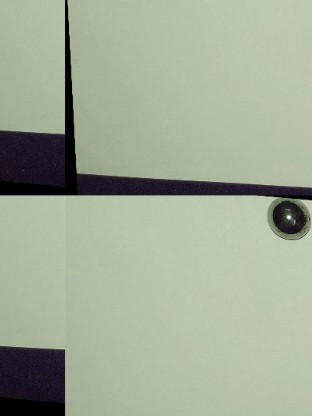ironball: (262, 198, 307, 241)
